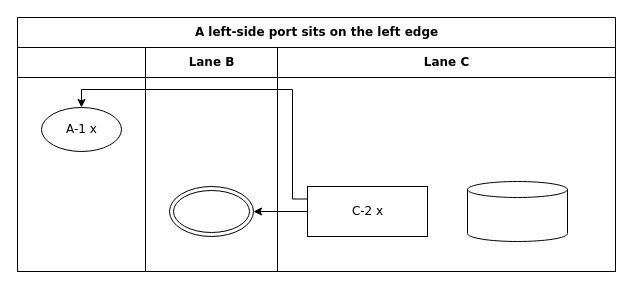
Some shapes in this 633 by 289 pixel diagram are drawn without their labels. The box of each missing label's shape, as (x1, y1, x2, y2) in pixels:
B-3 x: (168, 186, 254, 236)
d0: (466, 180, 568, 242)
Lane A: (16, 46, 146, 272)
